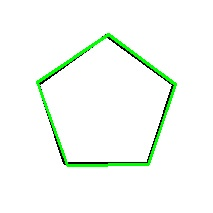line_segment: (36, 34, 176, 166)
